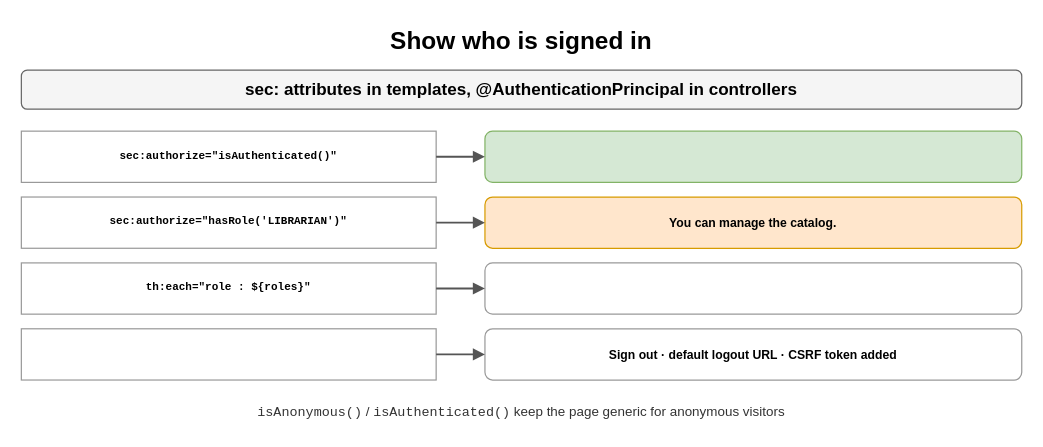
This 1043x447 diagram has some shape labels left out. Here are the shapes that lost their labels. From the top down, the centre of each, then its label:
the point at 753,156: Signed in as <name> (sec:authentication="name")
the point at 753,288: role.authority per granted role (model from the controller)
the point at 228,354: form th:action="@{/logout}" method="post"
